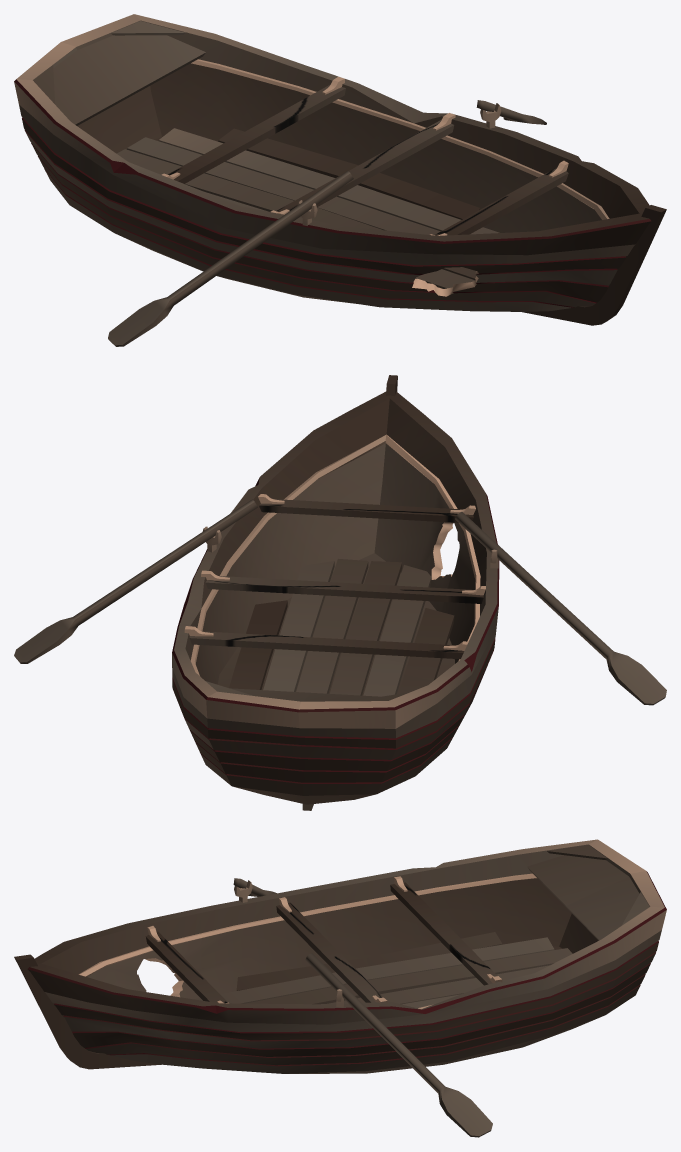
The model's file is Boat_01fbx.fbx.
The picture shows the model from 3 angles, top to bottom: view 1: azimuth 30°, elevation 25°; view 2: azimuth 150°, elevation 25°; view 3: azimuth 270°, elevation 25°; orthographic projection. The views are drawn at different scales.
Visible parts, largest first — view 1: Boat.005; view 2: Boat.005; view 3: Boat.005.
Boxes of the visible parts, box(x1,y1,x2,y2) form: Boat.005: box(14, 14, 666, 346); Boat.005: box(14, 375, 666, 810); Boat.005: box(14, 839, 666, 1137).
Bounding box in the file's own units: 712 × 214 × 813.
